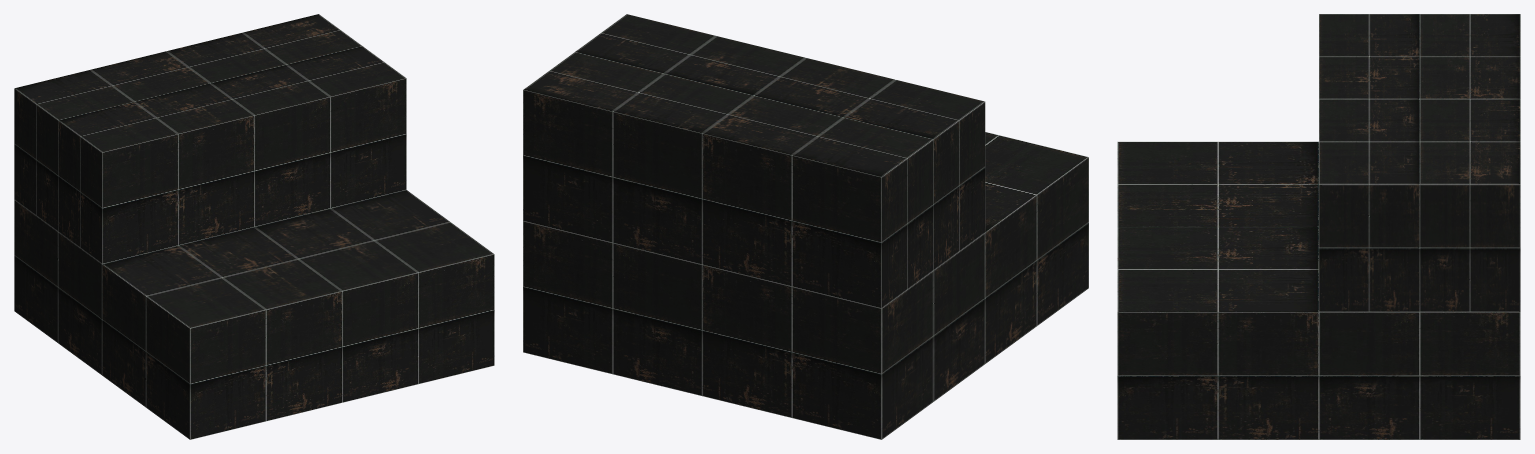
The model's file is stair.glb.
3 views of the same model, side by side, from view 1: azimuth 30°, elevation 25°; view 2: azimuth 150°, elevation 25°; view 3: azimuth 270°, elevation 25° (orthographic). The views are drawn at different scales.
Visible parts, largest first — view 1: Cube.001; view 2: Cube.001; view 3: Cube.001.
Part boxes in pixels (x1,y1,x2,y2): Cube.001: [14, 14, 494, 439]; Cube.001: [523, 14, 1088, 439]; Cube.001: [1117, 14, 1520, 439].
Bounding box in the file's own units: 2 × 1.4 × 2.
Materials: 1 (1 with a texture image).
